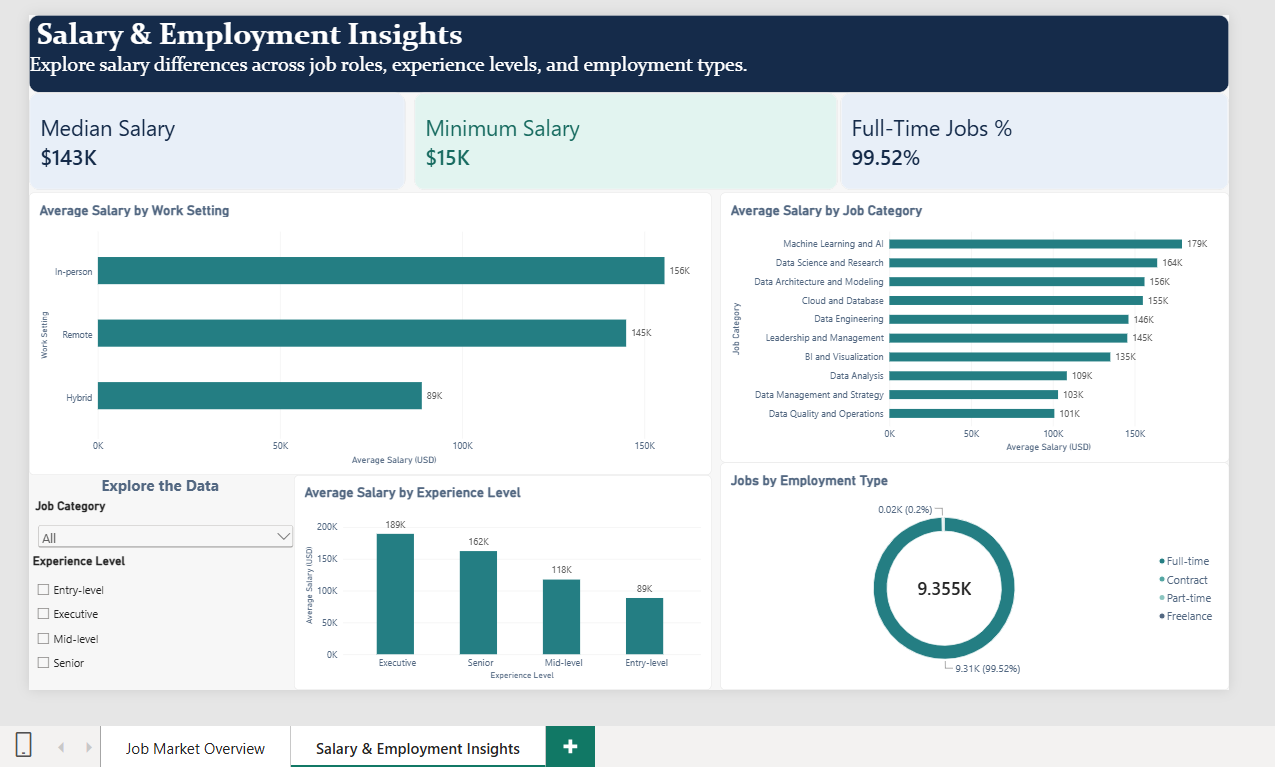

This screenshot's page, from the dashboard's own definition file:
{"tool":"powerbi","page":{"name":"Salary & Employment Insights","canvas":[1920,1080],"ordinal":1},"visuals":[{"type":"textbox","box":[10,0,280,280],"z":0},{"type":"textbox","box":[0,0,1920,124],"z":1000},{"type":"clusteredBarChart","title":"Average Salary by Job Category","fields":{"Category":["JobData.job_category"],"Y":["Avg(JobData.salary_in_usd)"]},"box":[1106,284,814,432],"z":2000},{"type":"clusteredColumnChart","title":"Average Salary by Experience Level","fields":{"Category":["JobData.experience_level"],"Y":["Avg(JobData.salary_in_usd)"]},"box":[424,736,668,344],"z":3000},{"type":"donutChart","title":"Jobs by Employment Type","fields":{"Category":["JobData.employment_type"],"Y":["CountNonNull(JobData.job_title)"]},"box":[1106,716,814,364],"z":4000},{"type":"slicer","title":"Experience Level","fields":{"Values":["JobData.experience_level"]},"box":[6,862,428,218],"z":5000},{"type":"slicer","title":"Job Category","fields":{"Values":["JobData.job_category"]},"box":[10,774,418,88],"z":6000},{"type":"cardVisual","fields":{"Data":["JobData.Median Salary"]},"box":[0,124,602,156],"z":7000},{"type":"cardVisual","fields":{"Data":["JobData.Minimum Salary"]},"box":[616,124,678,156],"z":8000},{"type":"cardVisual","title":"Full Time Jobs %","fields":{"Data":["JobData.Full-Time Jobs %"]},"box":[1298,124,622,156],"z":9000},{"type":"clusteredBarChart","title":"Average Salary by Work Setting","fields":{"Category":["JobData.work_setting"],"Y":["Avg(JobData.salary_in_usd)"]},"box":[0,284,1092,452],"z":10000},{"type":"textbox","box":[50,736,326,72],"z":10001}]}

Visuals, with their boxes on the page's 1920x1080 design canvas (x1, y1, x2, y2). These are canvas units, not pixel positions in the 1275x767 screenshot, which may show the page scaled, cropped or inside an application window:
textbox: box=[10, 0, 290, 280]
textbox: box=[0, 0, 1920, 124]
"Average Salary by Job Category" clusteredBarChart: box=[1106, 284, 1920, 716]
"Average Salary by Experience Level" clusteredColumnChart: box=[424, 736, 1092, 1080]
"Jobs by Employment Type" donutChart: box=[1106, 716, 1920, 1080]
"Experience Level" slicer: box=[6, 862, 434, 1080]
"Job Category" slicer: box=[10, 774, 428, 862]
cardVisual - JobData.Median Salary: box=[0, 124, 602, 280]
cardVisual - JobData.Minimum Salary: box=[616, 124, 1294, 280]
"Full Time Jobs %" cardVisual: box=[1298, 124, 1920, 280]
"Average Salary by Work Setting" clusteredBarChart: box=[0, 284, 1092, 736]
textbox: box=[50, 736, 376, 808]
